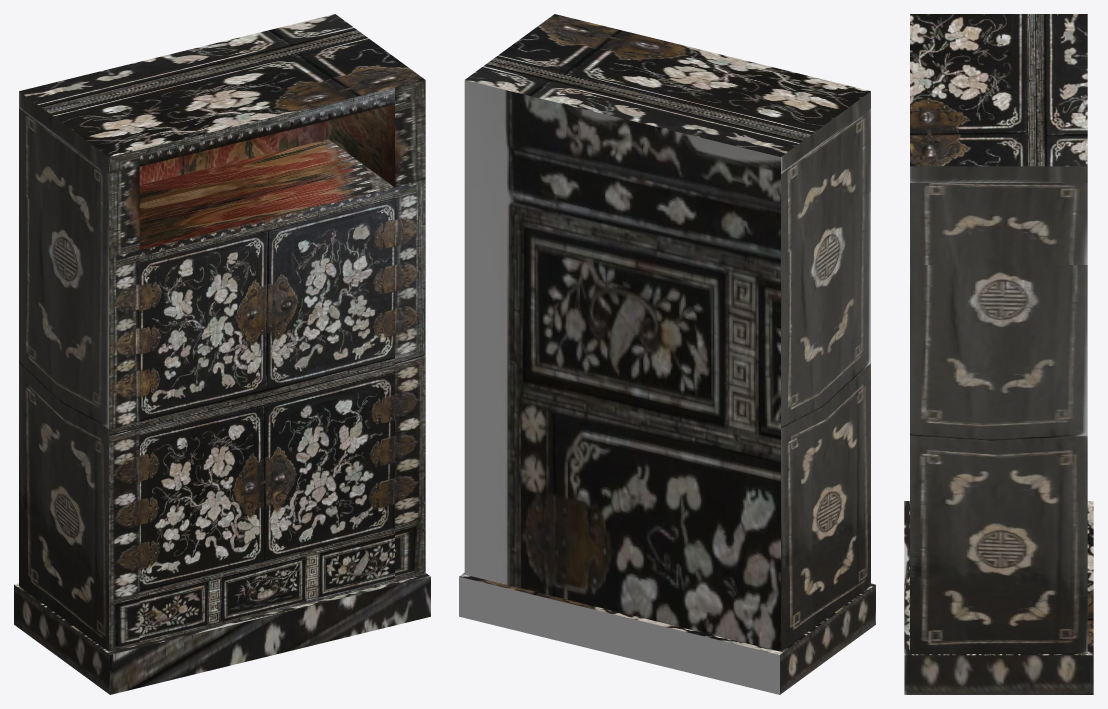
Rendered from cabinet11.fbx.
The picture shows the model from 3 angles, left to right: view 1: azimuth 30°, elevation 25°; view 2: azimuth 150°, elevation 25°; view 3: azimuth 270°, elevation 25°; orthographic projection.
Parts seen in each view (by area): view 1: Cube.001; view 2: Cube.001; view 3: Cube.001.
Part boxes in pixels (<box>): Cube.001: <box>14,14,430,694</box>; Cube.001: <box>459,14,875,694</box>; Cube.001: <box>904,14,1093,694</box>.
Size of the model in its own units: 156 by 249 by 80.98.
2 materials, 2 textured.
